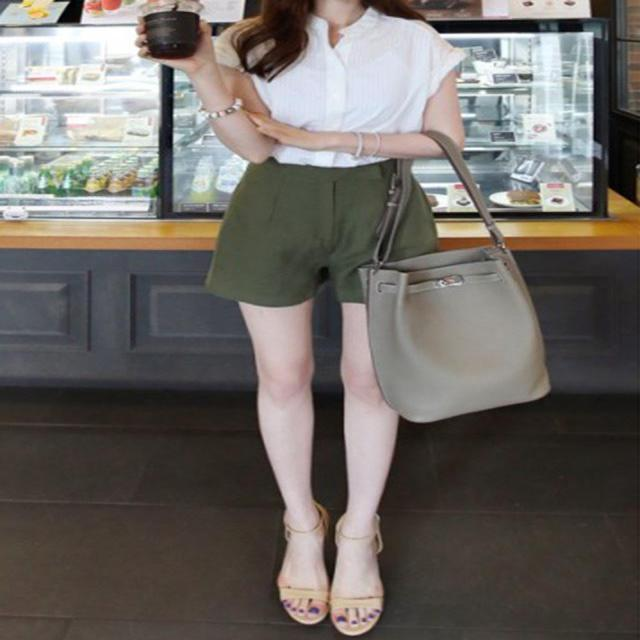short sleeve top: (195, 7, 468, 167)
shorts: (205, 157, 440, 299)
